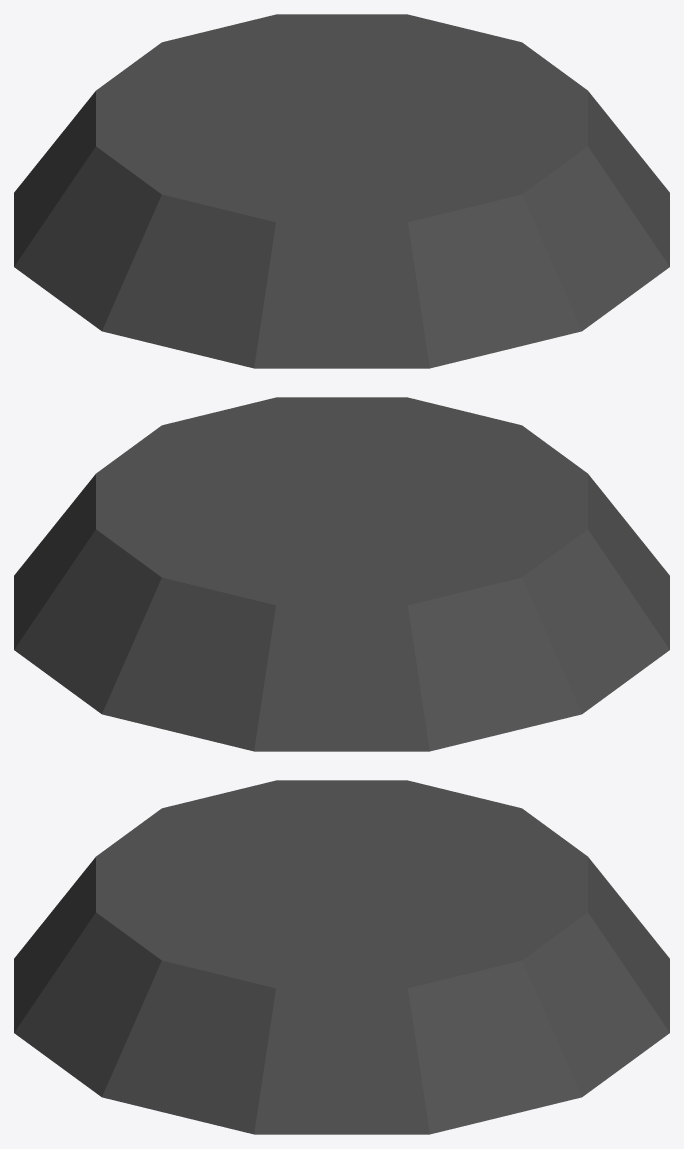
The model's file is itembase.obj.
3 views of the same model, one above another, from view 1: azimuth 30°, elevation 25°; view 2: azimuth 150°, elevation 25°; view 3: azimuth 270°, elevation 25° (orthographic).
Parts seen in each view (by area): view 1: cylinder; view 2: cylinder; view 3: cylinder.
Part boxes in pixels (<box>): cylinder: <box>14,14,669,368</box>; cylinder: <box>14,397,669,751</box>; cylinder: <box>14,780,669,1134</box>.
Bounding box in the file's own units: 1 × 0.1875 × 1.
Materials: 1 (1 with a texture image).
